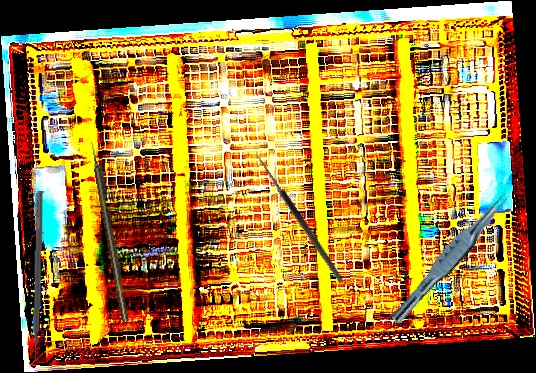Hook Surgical: (247, 152, 345, 288), (89, 140, 130, 323)
Spatula Surgical: (26, 190, 44, 368)
Tissue Forceps: (389, 185, 514, 331)
